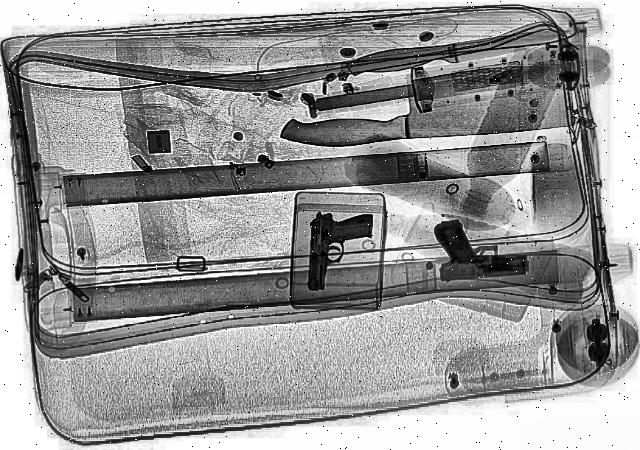Gun: (427, 217, 531, 286), (302, 212, 373, 293)
Knife: (270, 59, 580, 153), (306, 59, 552, 119), (339, 20, 563, 84)
